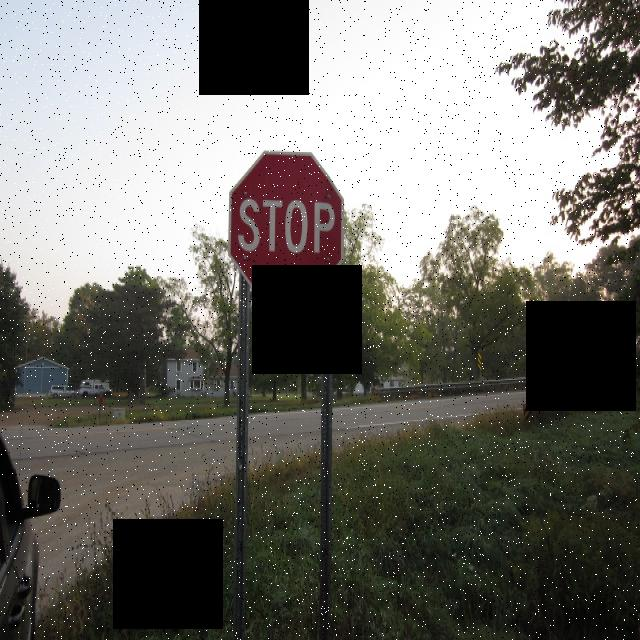stop: (224, 140, 353, 308)
